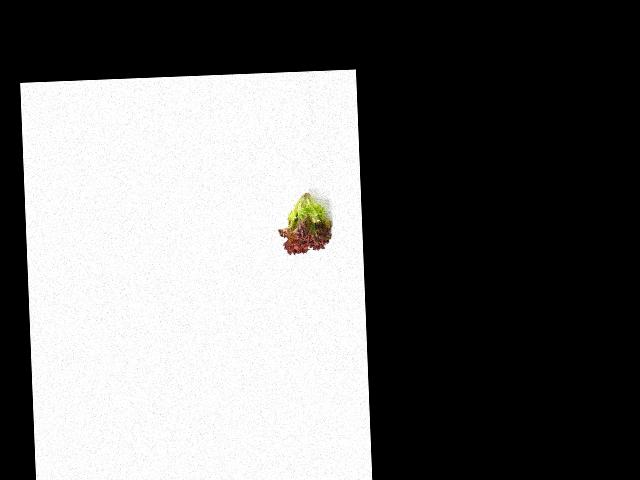lettuce: (278, 184, 334, 258)
